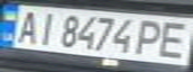4: (112, 16, 139, 54), (75, 13, 100, 51)
7: (93, 15, 118, 52)
8: (54, 11, 81, 48)
A: (9, 7, 42, 44)
E: (151, 19, 193, 60)
I: (30, 10, 60, 46)
P: (130, 17, 172, 56)
